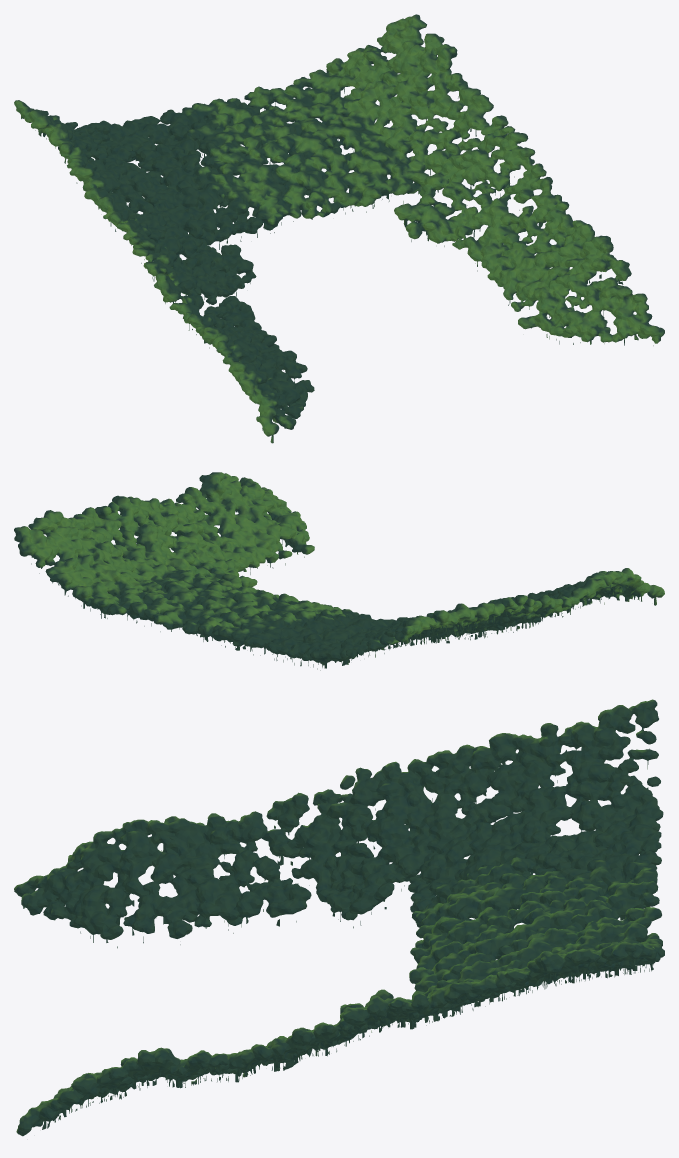
Rendered from forest.glb.
3 renders of one model, top to bottom at view 1: azimuth 30°, elevation 25°; view 2: azimuth 150°, elevation 25°; view 3: azimuth 270°, elevation 25°, orthographic. The views are drawn at different scales.
Visible parts, largest first — view 1: piece_forest; view 2: piece_forest; view 3: piece_forest.
Boxes of the visible parts, x1=… form: piece_forest: x1=14, y1=14, x2=664, y2=443; piece_forest: x1=14, y1=472, x2=664, y2=670; piece_forest: x1=14, y1=699, x2=664, y2=1136.
Size of the model in its own units: 353 by 135 by 389.
